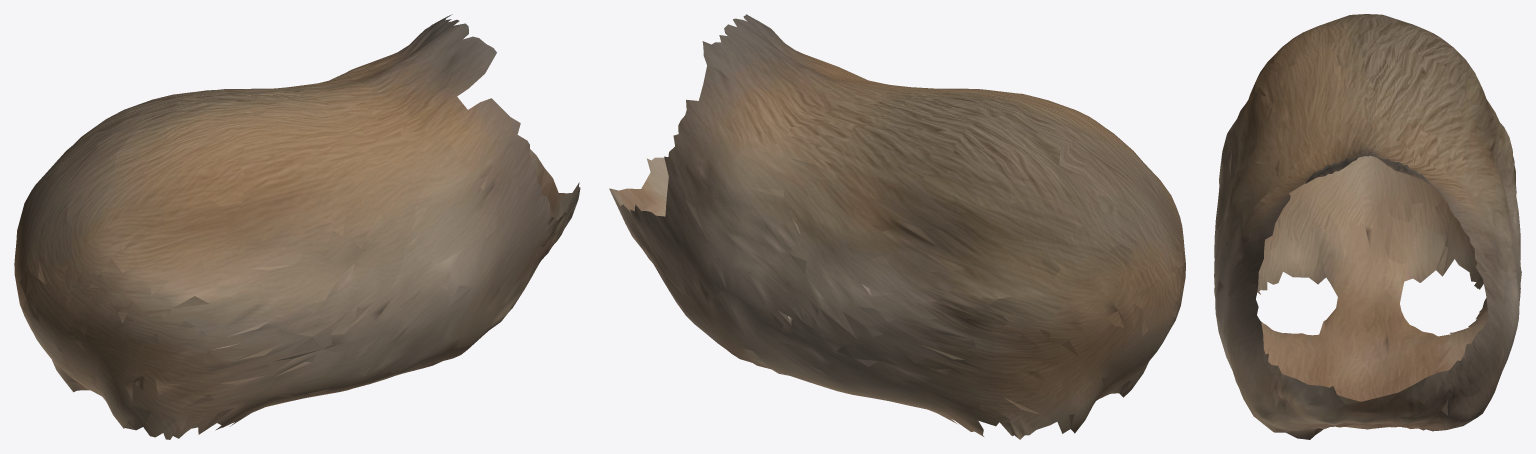
File: cuerpoCapi.obj
3 renders of one model, left to right at view 1: azimuth 30°, elevation 25°; view 2: azimuth 150°, elevation 25°; view 3: azimuth 270°, elevation 25°, orthographic. The views are drawn at different scales.
Parts seen in each view (by area): view 1: cuerpoCapi; view 2: cuerpoCapi; view 3: cuerpoCapi.
Part boxes in pixels (<box>): cuerpoCapi: <box>14,14,580,439</box>; cuerpoCapi: <box>609,14,1185,439</box>; cuerpoCapi: <box>1214,14,1521,439</box>.
Bounding box in the file's own units: 0.8006 × 0.4324 × 0.3795.
1 material, 1 textured.
